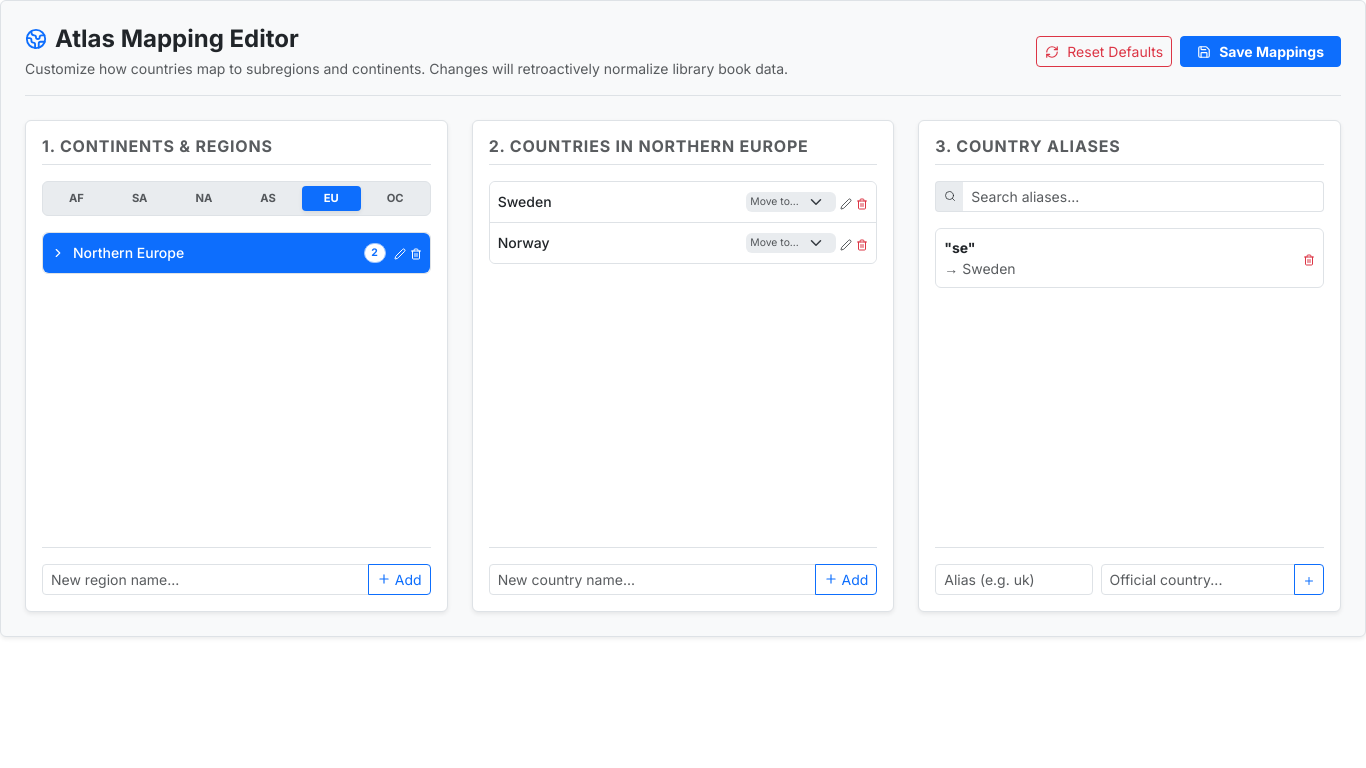
MappingsEditor Component › allows moving a country to another region
The image size is (1366, 768).
Note: Add a second region
Step 1. Type "Scandinavia" into the field with placeholder "New region name..." → (205, 580), box [42,564,369,595]
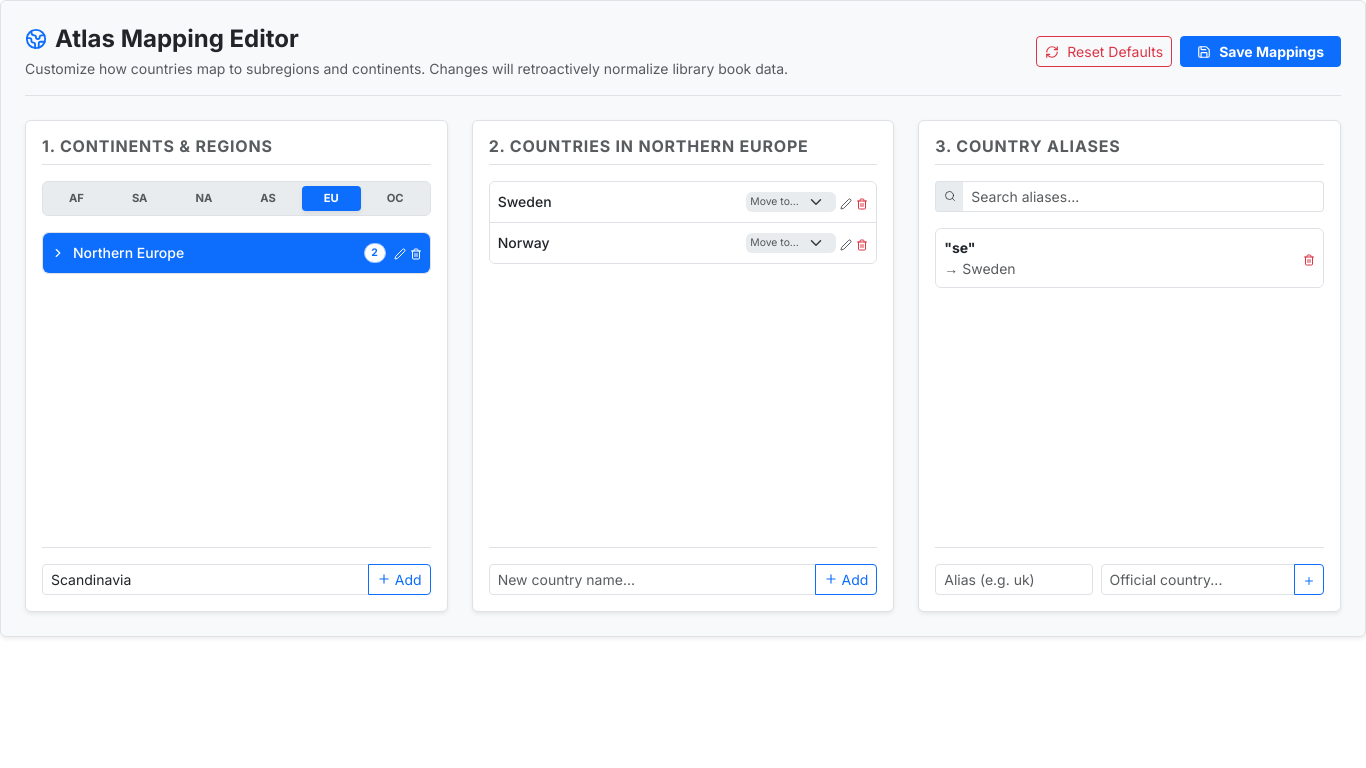
Step 2. Submit the 1st form with placeholder "new region name", box [42,547,431,595]
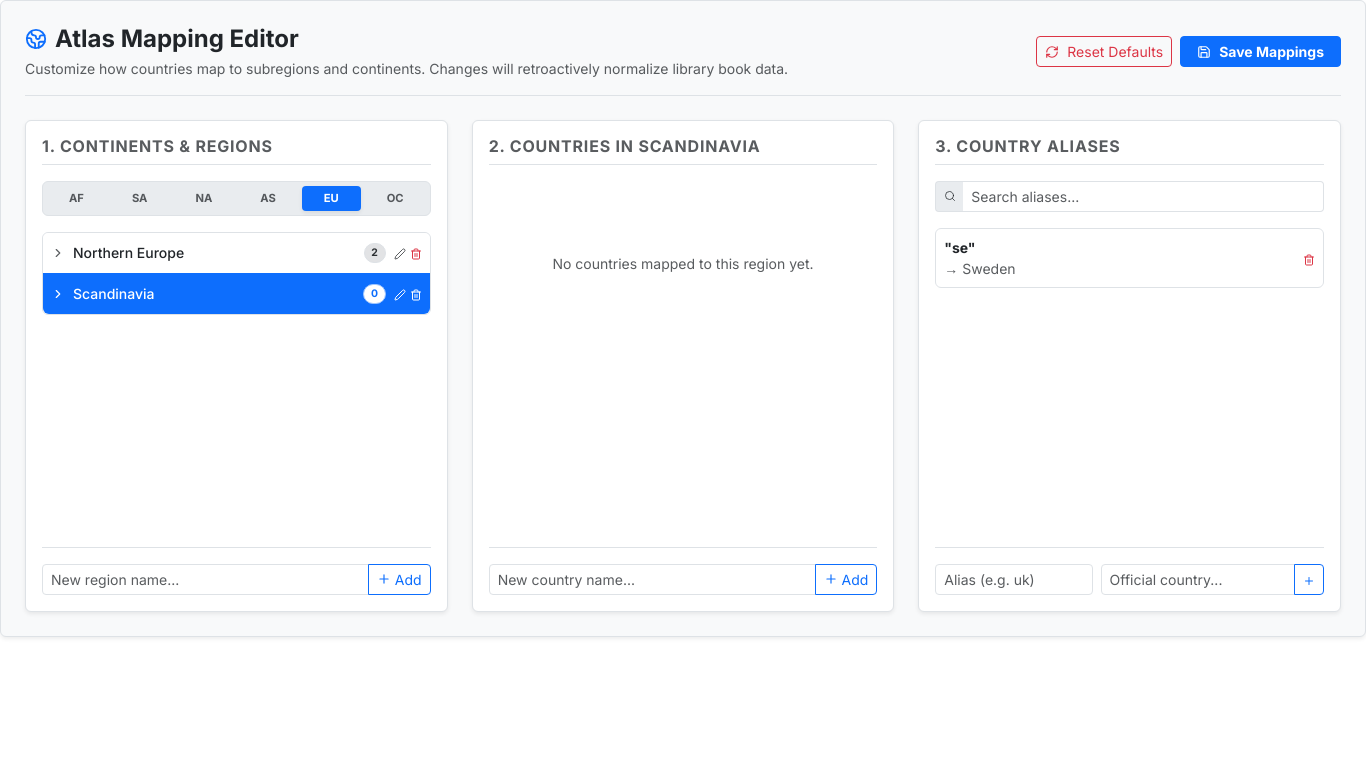
Note: Select Northern Europe
Step 3. Click the text "Northern Europe" → (129, 253), box [73,242,184,263]
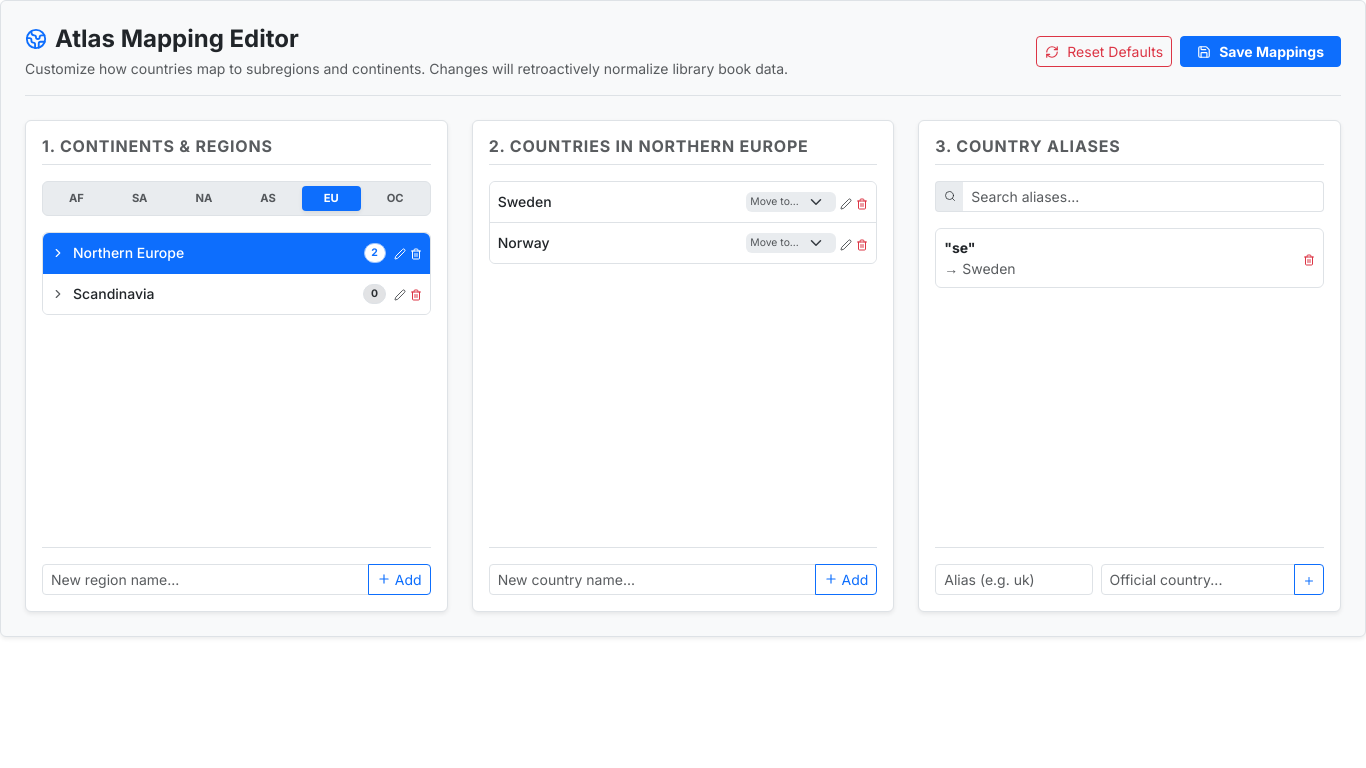
Note: Move Sweden to Scandinavia
Step 4. Select "Scandinavia (Europe)" in the 1st dropdown → (791, 202), box [746,192,836,212]
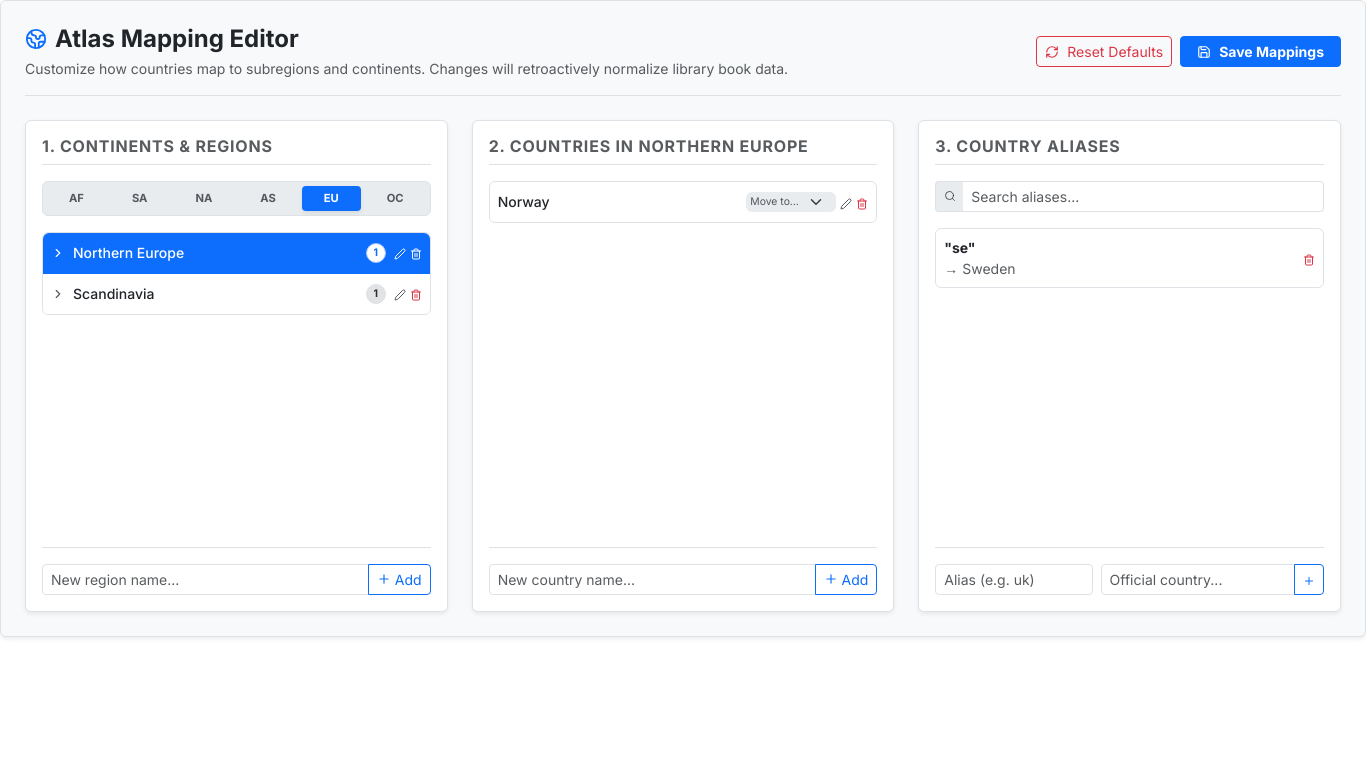
Note: Check Scandinavia
Step 5. Click the text "Scandinavia" → (114, 294), box [73,283,154,304]
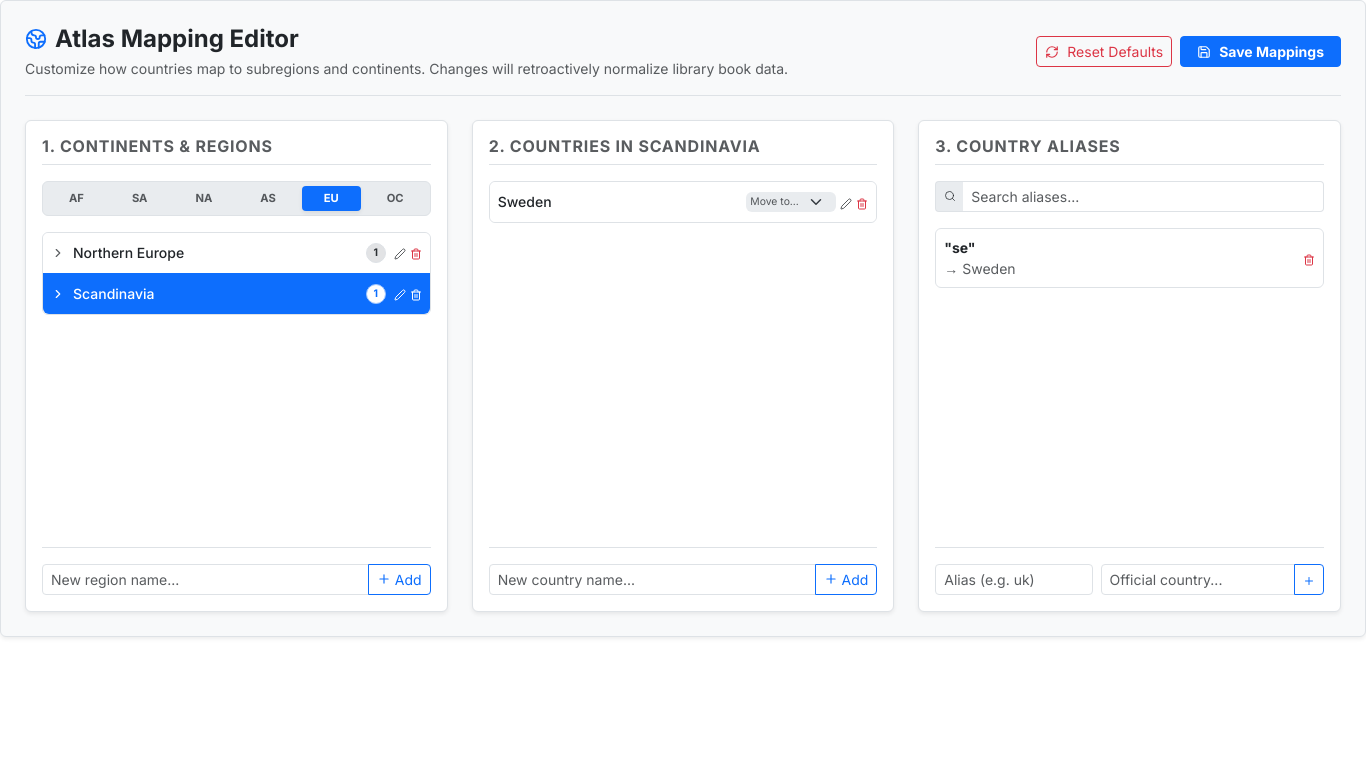
Check: the text "Sweden" is shown, box [498,192,552,212]
